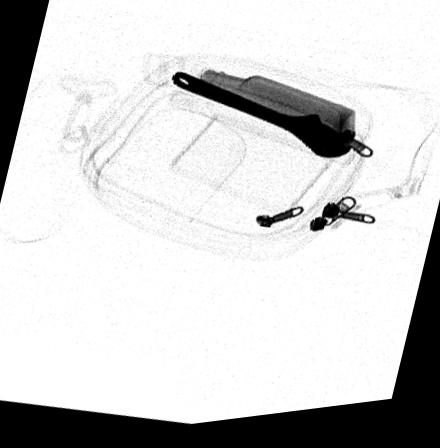Wrench: (167, 72, 354, 168)
